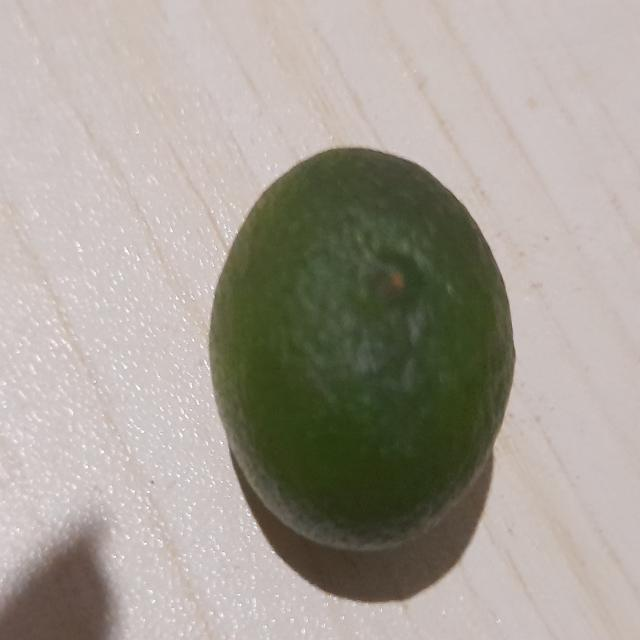heathy: (206, 149, 518, 558)
